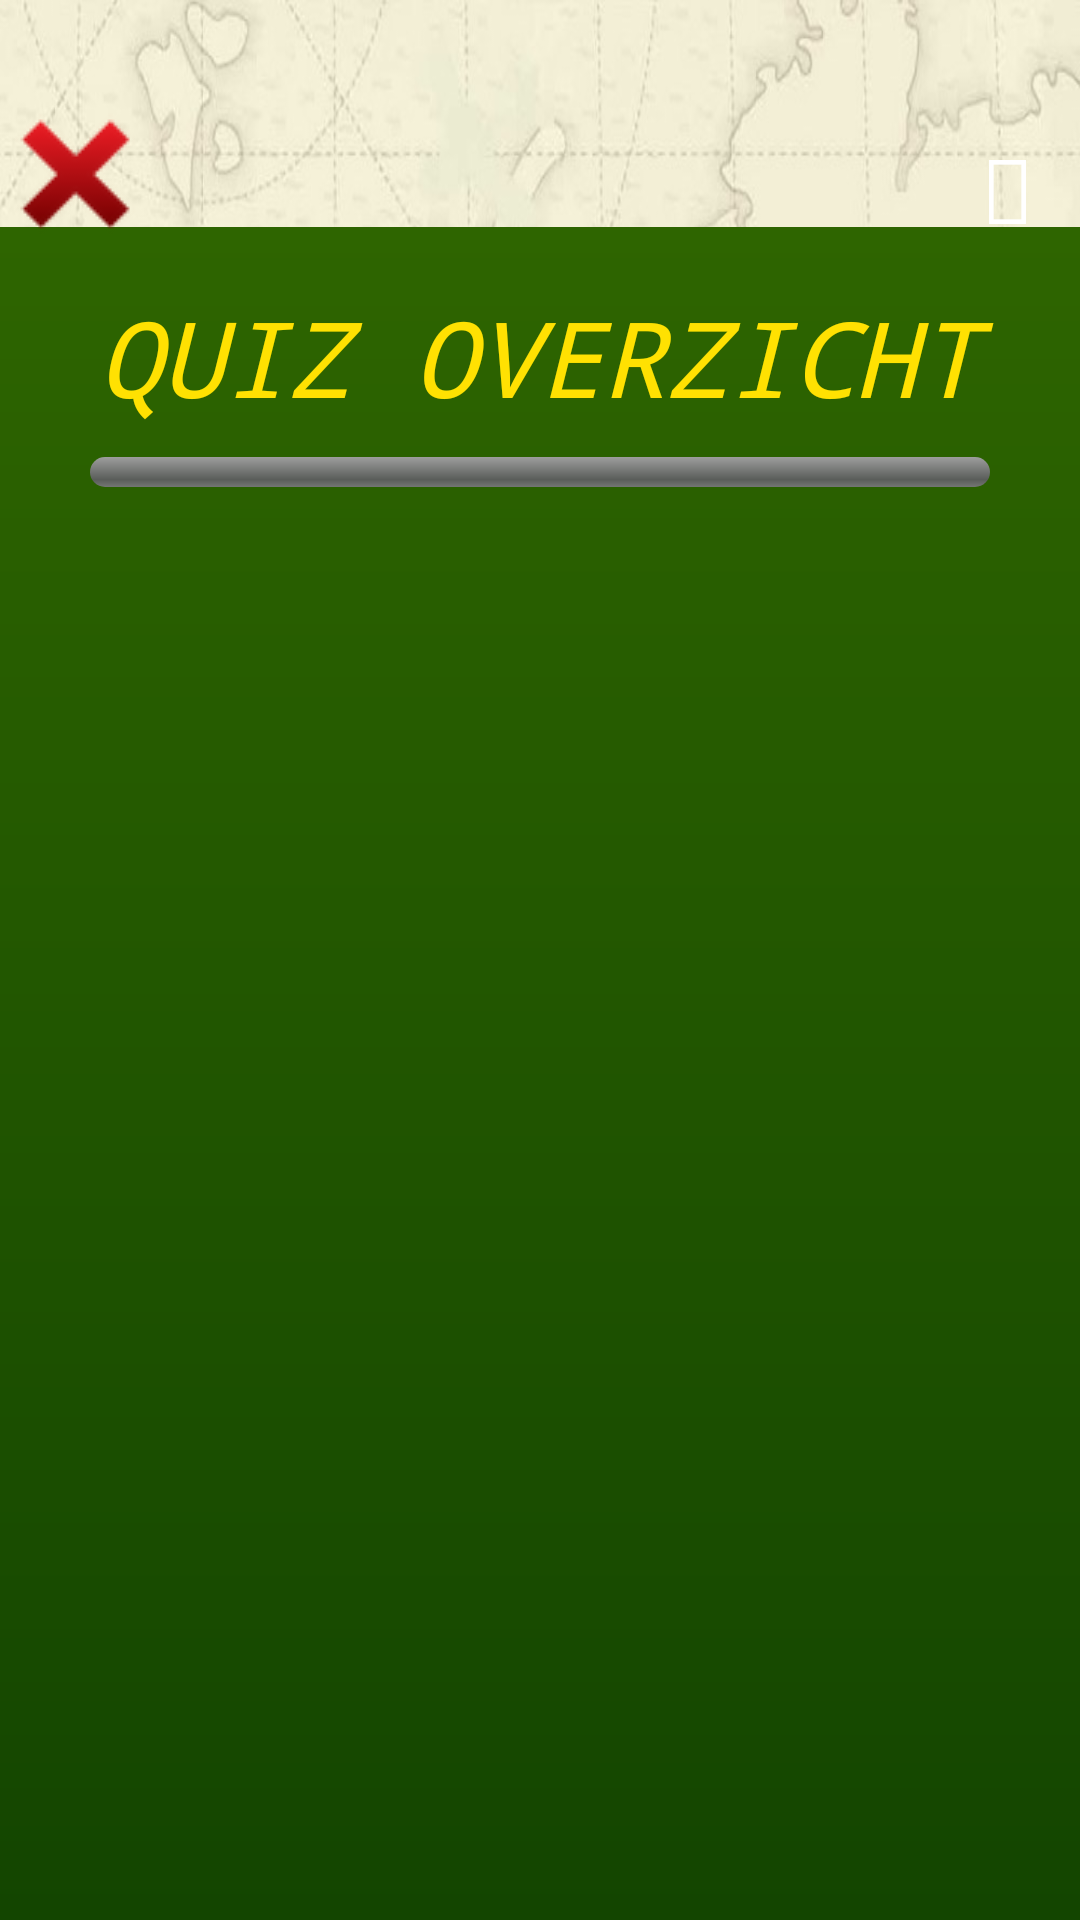

Point at icon controls on the screen. Image size 1080×1920, points as [x,y].
backquitbtn: [75,174]
